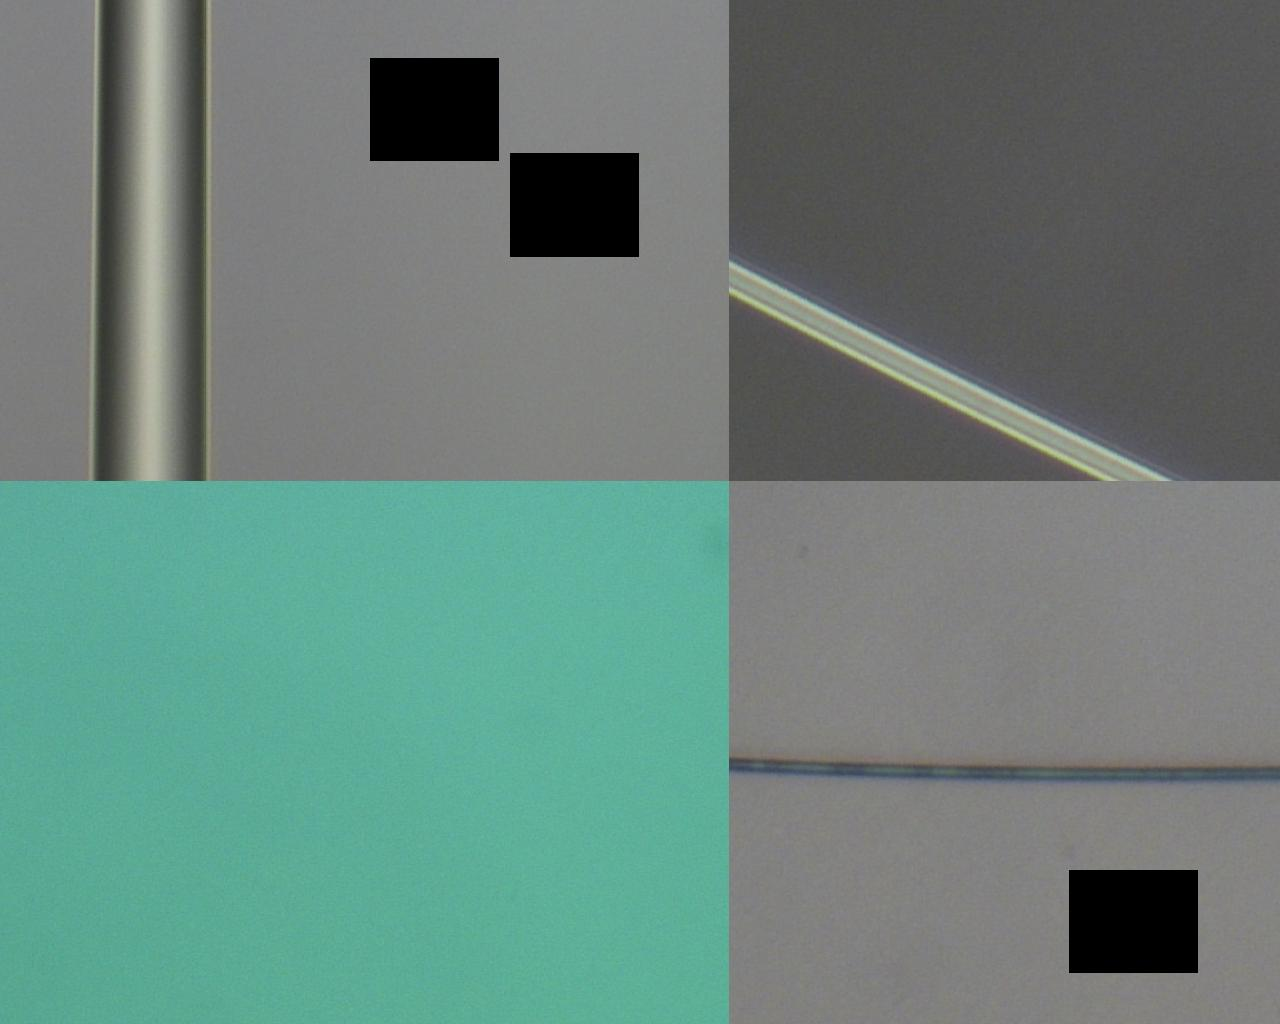fiber: (0, 91, 336, 471), (639, 471, 1154, 634), (639, 438, 1280, 467)
